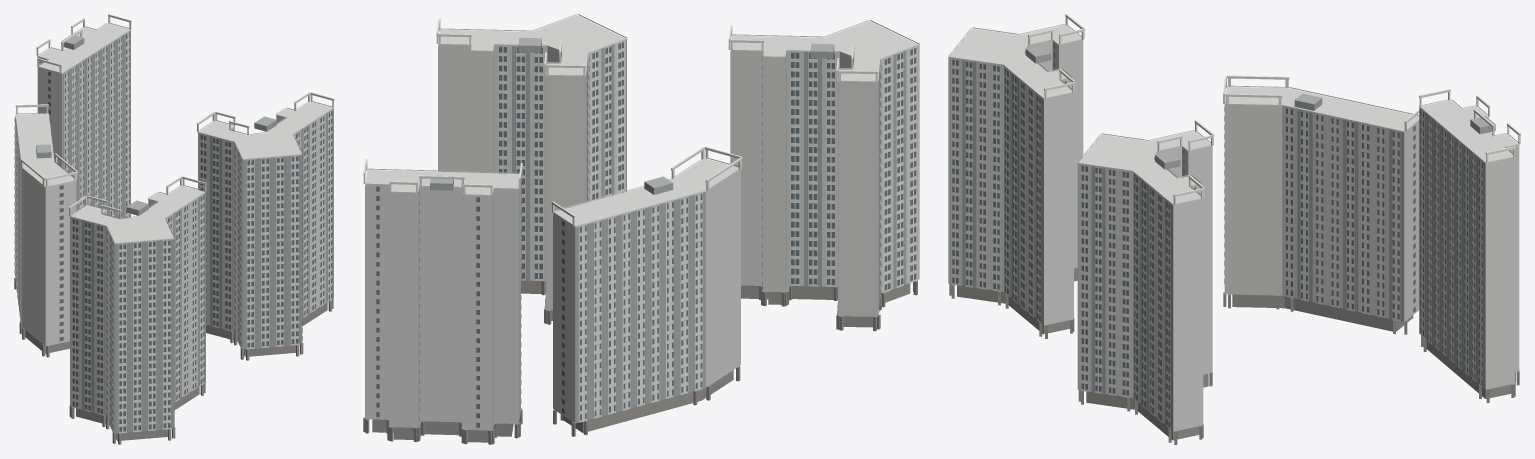
File: representative-a13778209.glb
The picture shows the model from 3 angles, left to right: view 1: azimuth 30°, elevation 25°; view 2: azimuth 150°, elevation 25°; view 3: azimuth 270°, elevation 25°; orthographic projection. The views are drawn at different scales.
Parts seen in each view (by area): view 1: A13778209_trim001, A13778209_wall001, A13778209_accent001, A13778209_glass001, A13778209_base001, A13778209_roof001; view 2: A13778209_wall001, A13778209_trim001, A13778209_accent001, A13778209_glass001, A13778209_base001, A13778209_roof001; view 3: A13778209_wall001, A13778209_trim001, A13778209_glass001, A13778209_accent001, A13778209_base001, A13778209_roof001.
Part boxes in pixels (x1,y1,x2,y2): A13778209_trim001: (15, 14, 334, 433); A13778209_wall001: (15, 23, 333, 432); A13778209_accent001: (15, 30, 333, 433); A13778209_glass001: (14, 32, 332, 431); A13778209_base001: (14, 277, 333, 444); A13778209_roof001: (36, 34, 276, 215); A13778209_wall001: (365, 15, 918, 430); A13778209_trim001: (363, 14, 919, 422); A13778209_accent001: (512, 39, 919, 423); A13778209_glass001: (376, 42, 916, 427); A13778209_base001: (363, 280, 917, 444); A13778209_roof001: (430, 37, 834, 194); A13778209_wall001: (949, 25, 1519, 431); A13778209_trim001: (948, 14, 1520, 429); A13778209_glass001: (952, 44, 1482, 427); A13778209_accent001: (948, 57, 1485, 431); A13778209_base001: (949, 267, 1519, 444); A13778209_roof001: (1025, 45, 1495, 169).
Size of the model in its own units: 116 by 75.15 by 156.
